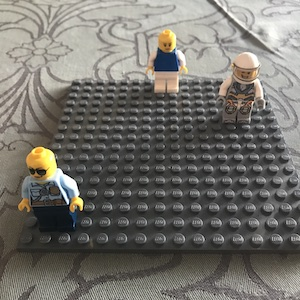Lego: (16, 147, 84, 230), (216, 51, 265, 125), (145, 29, 189, 93)
